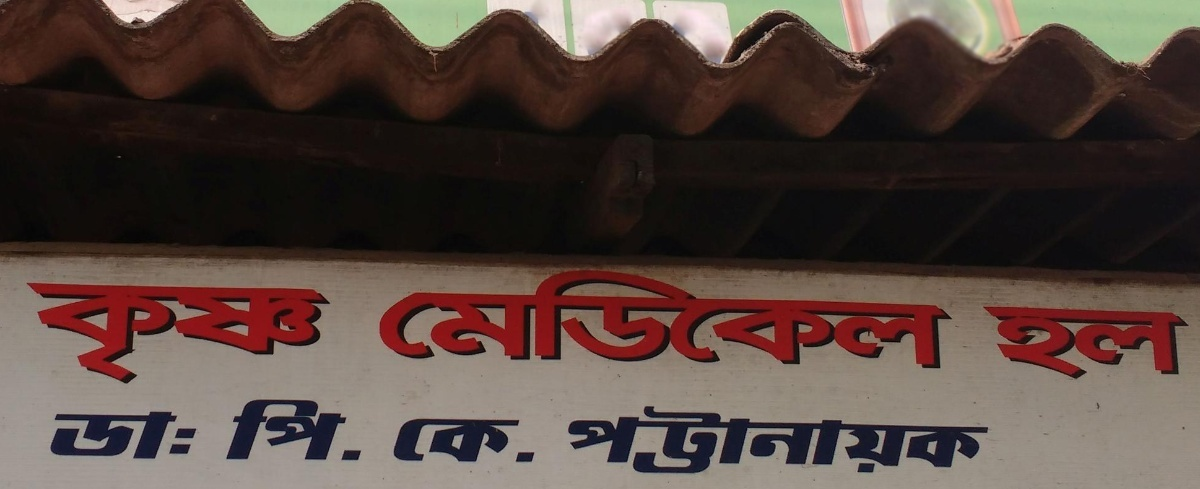text: (401, 264, 416, 377), (417, 264, 432, 377), (433, 264, 448, 377), (449, 264, 464, 377), (465, 264, 480, 377), (481, 264, 496, 377), (497, 264, 512, 377), (513, 264, 528, 377), (529, 264, 544, 377), (545, 264, 560, 377), (561, 264, 576, 377), (577, 264, 592, 377), (593, 264, 608, 377), (609, 264, 624, 377), (625, 264, 640, 377), (641, 264, 656, 377), (657, 264, 672, 377), (673, 264, 688, 377), (689, 264, 704, 377), (705, 264, 720, 377), (721, 264, 736, 377), (737, 264, 752, 377), (753, 264, 768, 377), (769, 264, 784, 377), (785, 264, 800, 377), (801, 264, 816, 377), (817, 264, 832, 377), (833, 264, 848, 377), (849, 264, 864, 377), (865, 264, 880, 377), (881, 264, 896, 377), (897, 264, 912, 377), (913, 264, 928, 377), (929, 264, 944, 377), (945, 264, 960, 377), (33, 278, 48, 387), (49, 278, 64, 387), (65, 278, 80, 387), (81, 278, 96, 387), (97, 278, 112, 387), (113, 278, 128, 387), (129, 278, 144, 387), (145, 278, 160, 387), (161, 278, 176, 387), (177, 278, 192, 387), (193, 278, 208, 387), (209, 278, 224, 387), (225, 278, 240, 387), (241, 278, 256, 387), (257, 278, 272, 387), (273, 278, 288, 387), (289, 278, 304, 387), (305, 278, 320, 387), (321, 278, 332, 387), (993, 303, 1008, 382), (1009, 303, 1024, 382), (1025, 303, 1040, 382), (1041, 303, 1056, 382), (1057, 303, 1072, 382), (1073, 303, 1088, 382), (1089, 303, 1104, 382), (1105, 303, 1120, 382), (1121, 303, 1136, 382), (1137, 303, 1152, 382), (1153, 303, 1168, 382), (1169, 303, 1184, 382), (257, 394, 272, 472), (273, 394, 288, 472), (289, 394, 304, 472), (305, 394, 320, 472), (321, 394, 336, 472), (337, 394, 352, 472), (577, 402, 592, 478), (593, 402, 608, 478), (609, 402, 624, 478), (625, 402, 640, 478), (641, 402, 656, 478), (657, 402, 672, 478), (673, 402, 688, 478), (689, 402, 704, 478), (705, 402, 720, 478), (721, 402, 736, 478), (737, 402, 752, 478), (753, 402, 768, 478), (769, 402, 784, 478), (785, 402, 800, 478), (801, 402, 816, 478), (817, 402, 832, 478), (833, 402, 848, 478), (849, 402, 864, 478), (865, 402, 880, 478), (881, 402, 896, 478), (897, 402, 912, 478), (913, 402, 928, 478), (929, 402, 944, 478), (945, 402, 960, 478), (961, 402, 976, 478), (977, 402, 992, 478), (390, 264, 400, 377), (1185, 303, 1199, 382), (49, 403, 64, 468), (65, 403, 80, 468), (81, 403, 96, 468), (97, 403, 112, 468), (113, 403, 128, 468), (129, 403, 144, 468), (145, 403, 160, 468), (161, 403, 176, 468), (177, 403, 192, 468), (244, 394, 256, 472), (564, 402, 576, 478), (353, 394, 364, 472), (401, 415, 416, 468), (417, 415, 432, 468), (433, 415, 448, 468), (449, 415, 464, 468), (465, 415, 480, 468), (481, 415, 496, 468), (497, 415, 512, 468), (513, 415, 528, 468), (26, 278, 32, 387), (529, 415, 541, 468), (984, 303, 992, 382), (393, 415, 400, 468), (961, 264, 964, 377), (193, 403, 197, 468)
